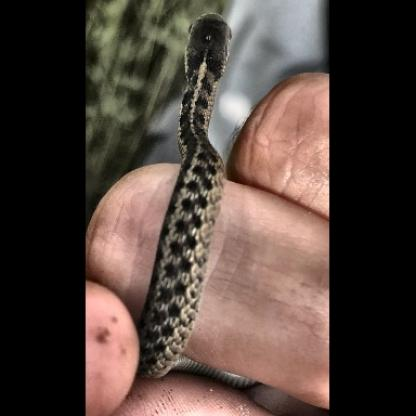Snake: (141, 6, 236, 361)
